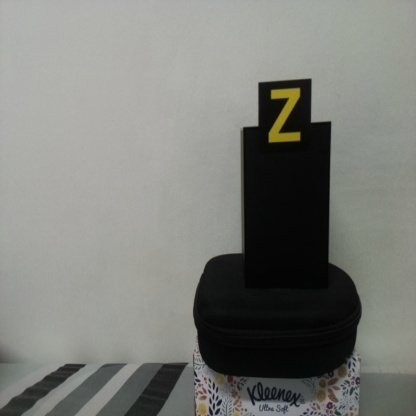id_15: (259, 82, 311, 152)
